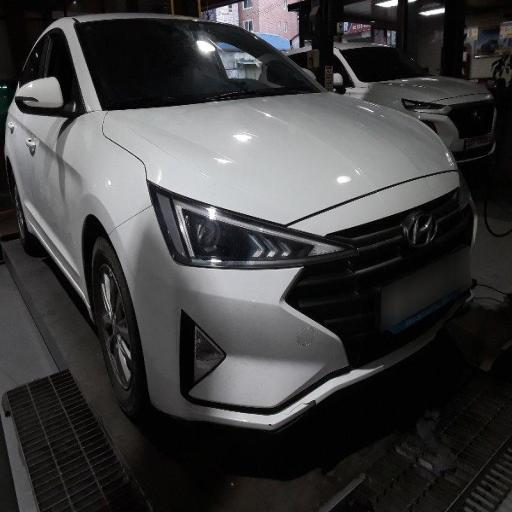dent: (88, 94, 186, 278)
